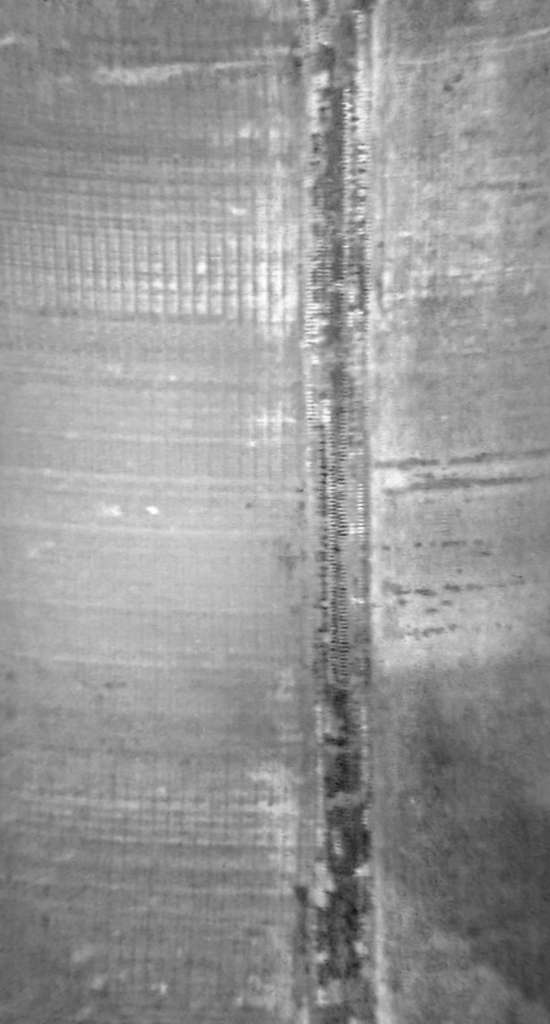splice: (273, 2, 400, 1024)
